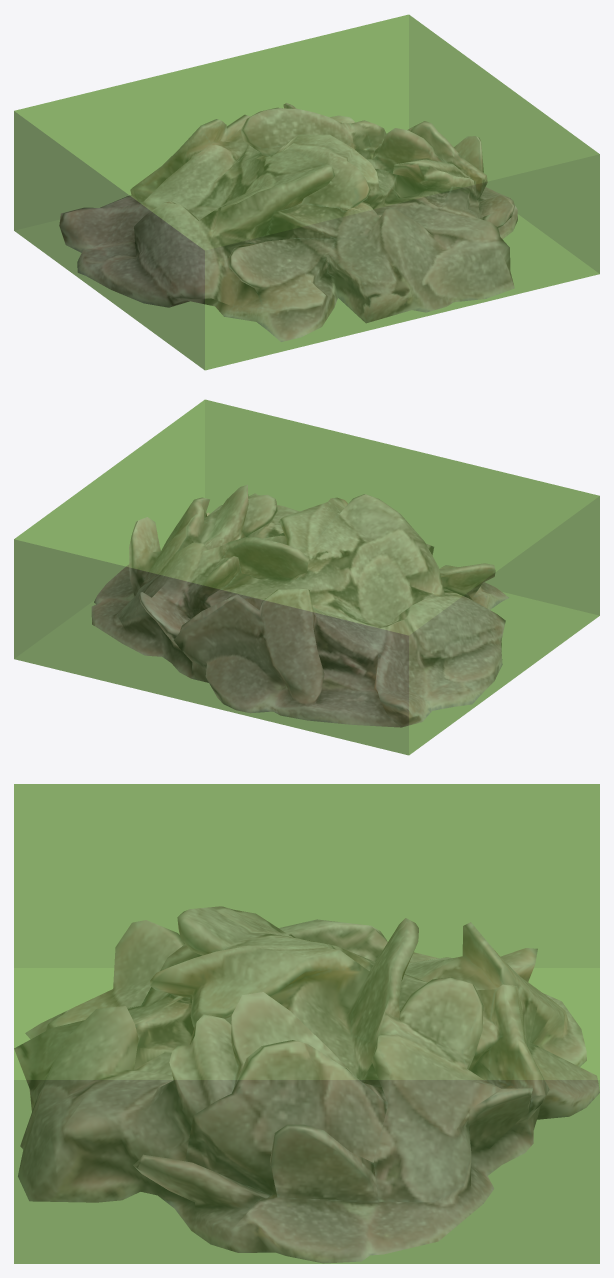
Rendered from pg_dried_fruit_01_b.fbx.
3 renders of one model, top to bottom at view 1: azimuth 30°, elevation 25°; view 2: azimuth 150°, elevation 25°; view 3: azimuth 270°, elevation 25°, orthographic. The views are drawn at different scales.
Visible parts, largest first — view 1: pg_dried_fruit_01_b_col, pg_dried_fruit_01_b_LOD0; view 2: pg_dried_fruit_01_b_col, pg_dried_fruit_01_b_LOD0; view 3: pg_dried_fruit_01_b_col, pg_dried_fruit_01_b_LOD0.
Part boxes in pixels (x1=…): pg_dried_fruit_01_b_col: x1=14, y1=14, x2=599, y2=370; pg_dried_fruit_01_b_LOD0: x1=59, y1=103, x2=517, y2=341; pg_dried_fruit_01_b_col: x1=14, y1=399, x2=599, y2=755; pg_dried_fruit_01_b_LOD0: x1=91, y1=484, x2=508, y2=727; pg_dried_fruit_01_b_col: x1=14, y1=784, x2=599, y2=1263; pg_dried_fruit_01_b_LOD0: x1=14, y1=906, x2=599, y2=1263.
Size of what is drawn, in the model's own units: 25.1 by 7.28 by 21.02.
